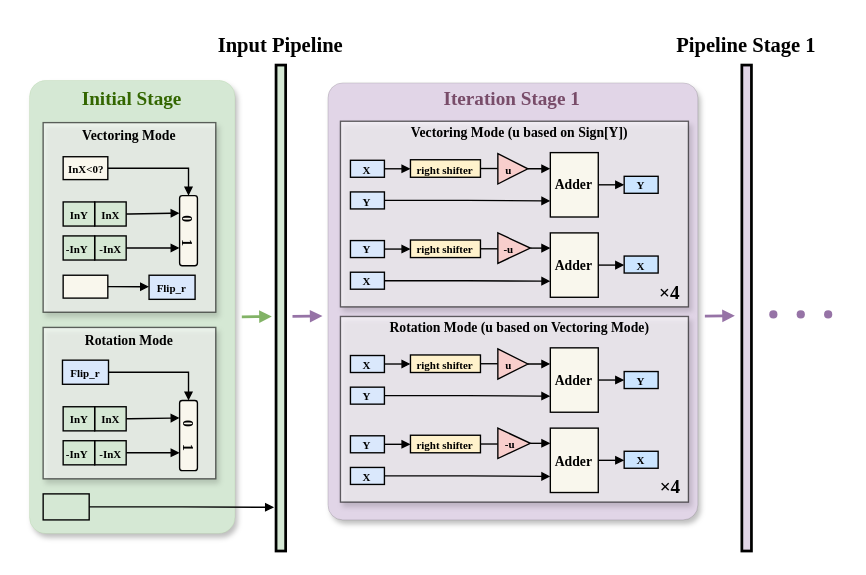
Some shapes in this 866 by 575 pixel diagram are drawn without their labels. Each missing label, with the centre of its shape:
"InX<0" belongs at (x=85, y=286).
"Mode" belongs at (x=65, y=506).
